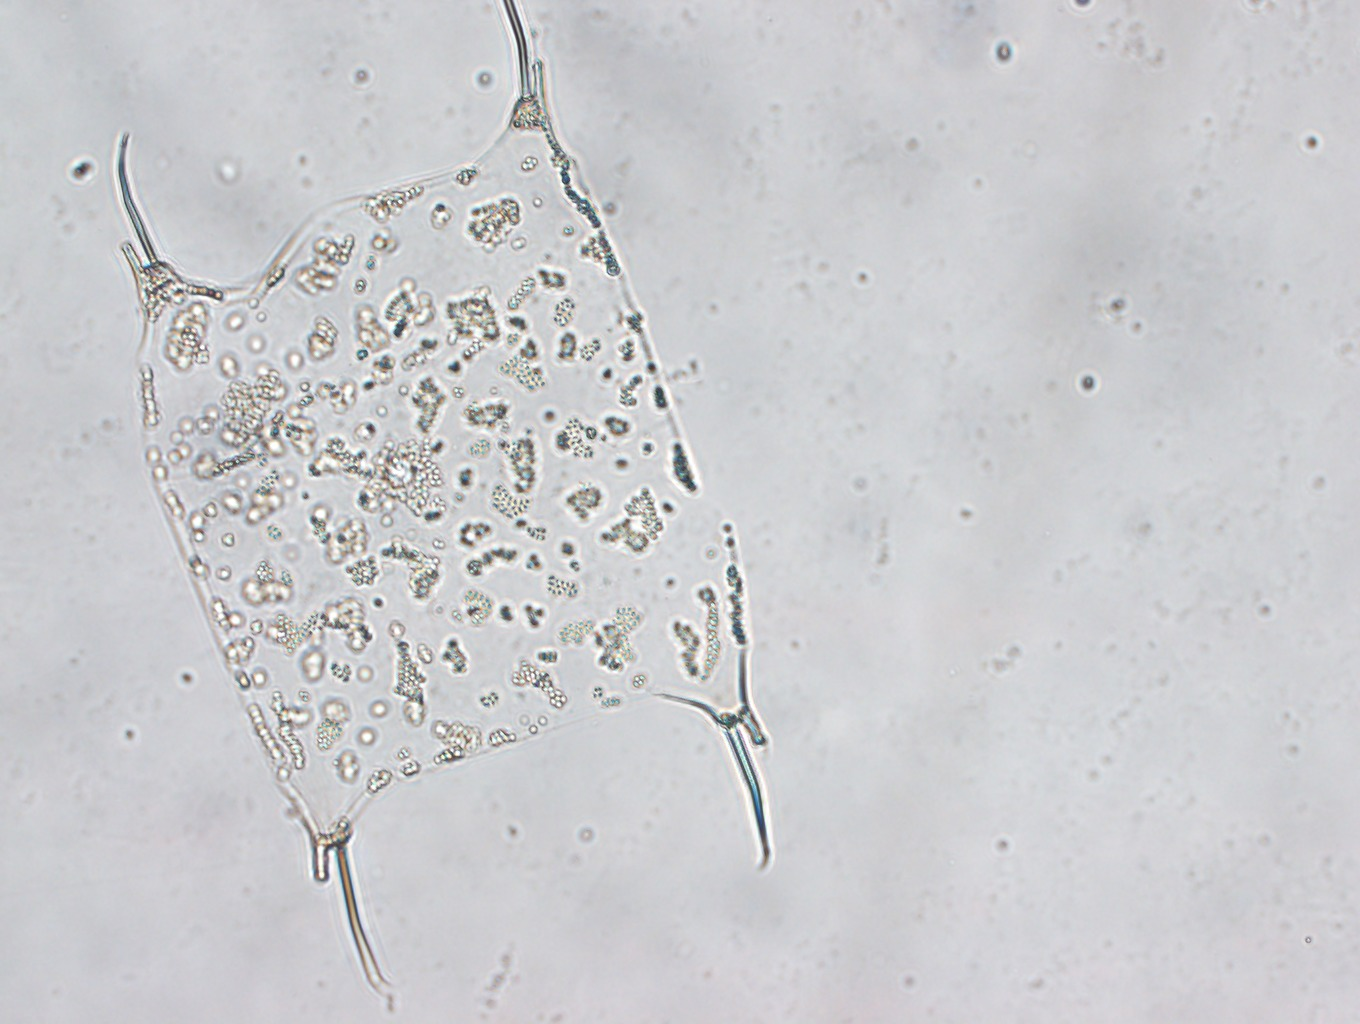biddulphia: (116, 1, 771, 992)
